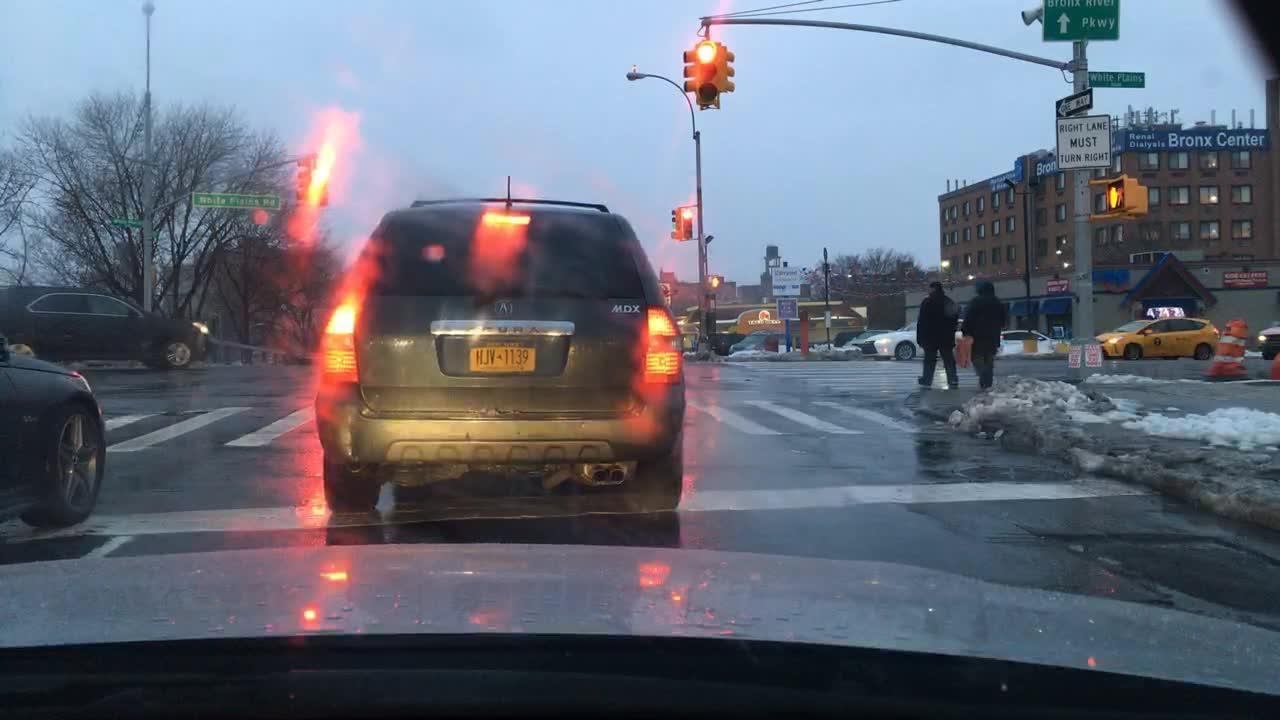acura: (490, 297, 518, 319)
